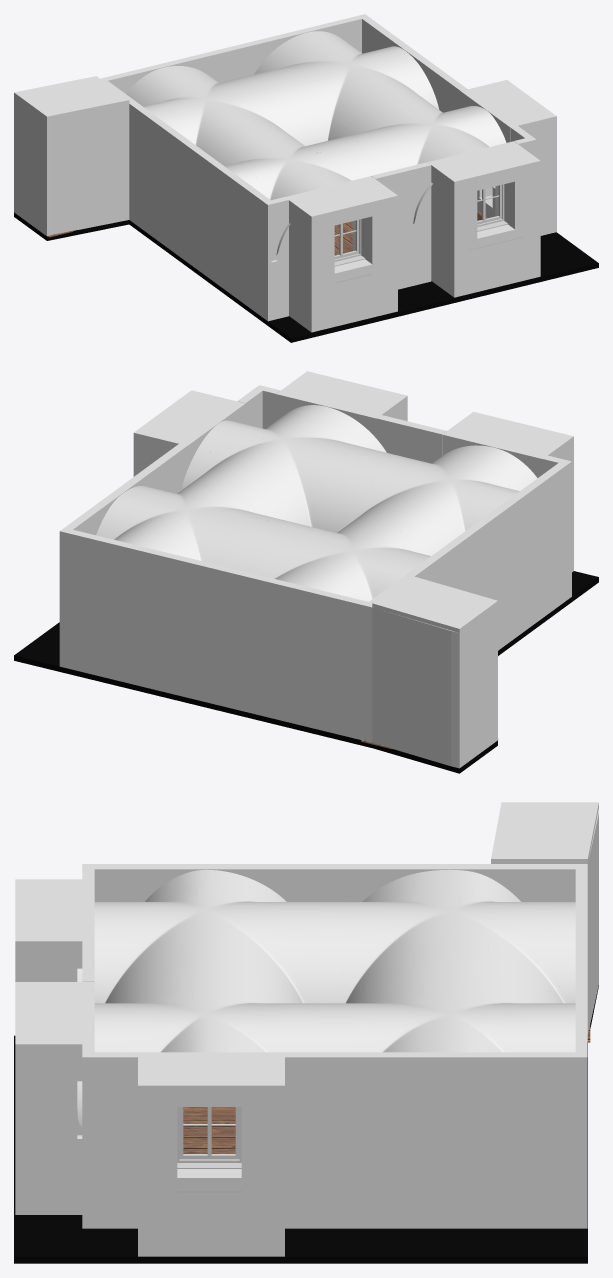
File: Ausstellungsraum.glb
3 renders of one model, top to bottom at view 1: azimuth 30°, elevation 25°; view 2: azimuth 150°, elevation 25°; view 3: azimuth 270°, elevation 25°, orthographic. The views are drawn at different scales.
Visible parts, largest first — view 1: Cube.030, Plane.008, Cube.066, Cube.072, Cube.014, Cube.069, Cube.073, Cube.067; view 2: Cube.030, Plane.008, Cube.014, Cube.069, Cube.072, Cube.066; view 3: Cube.030, Plane.008, Cube.069, Cube.014, Cube.066, Cube.072, Cube.068, Cube.016, Cube.011.
Boxes of the visible parts, bbox=[...] form: Cube.030: bbox=[14, 14, 536, 321]; Plane.008: bbox=[126, 31, 506, 262]; Cube.066: bbox=[428, 141, 540, 297]; Cube.072: bbox=[285, 176, 397, 332]; Cube.014: bbox=[14, 212, 598, 342]; Cube.069: bbox=[460, 80, 556, 235]; Cube.073: bbox=[334, 219, 361, 261]; Cube.067: bbox=[477, 184, 504, 226]; Cube.030: bbox=[59, 385, 571, 768]; Plane.008: bbox=[96, 405, 537, 601]; Cube.014: bbox=[14, 571, 598, 773]; Cube.069: bbox=[133, 390, 245, 476]; Cube.072: bbox=[442, 412, 573, 572]; Cube.066: bbox=[276, 371, 407, 438]; Cube.030: bbox=[82, 802, 598, 1228]; Plane.008: bbox=[77, 869, 575, 1138]; Cube.069: bbox=[138, 1052, 284, 1256]; Cube.014: bbox=[14, 985, 598, 1263]; Cube.066: bbox=[15, 982, 94, 1214]; Cube.072: bbox=[15, 879, 94, 981]; Cube.068: bbox=[177, 1107, 241, 1162]; Cube.016: bbox=[183, 1107, 235, 1129]; Cube.011: bbox=[183, 1134, 235, 1153].
Bounding box in the file's own units: 9.85 × 3.03 × 8.75.
Materials: 8 (5 with a texture image).
